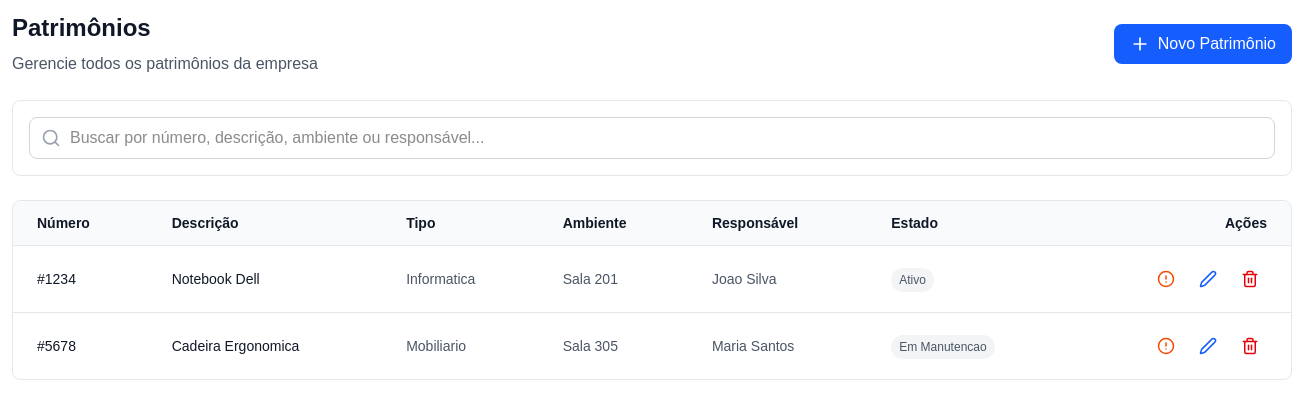
it: PatrimoniosList › delete com sucesso remove da lista e exibe toast
Expected: the text "Notebook Dell" is shown, x1=148 y1=246 x2=382 y2=312
Click the button without text in the row of "1234": (1250,279) x1=1233 y1=262 x2=1267 y2=296
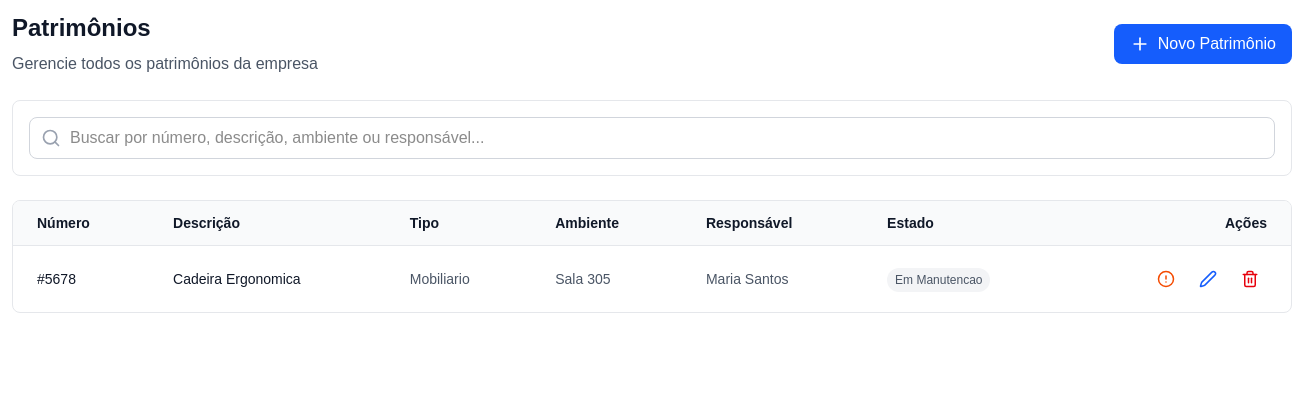
Expected: the text "Notebook Dell" is gone
